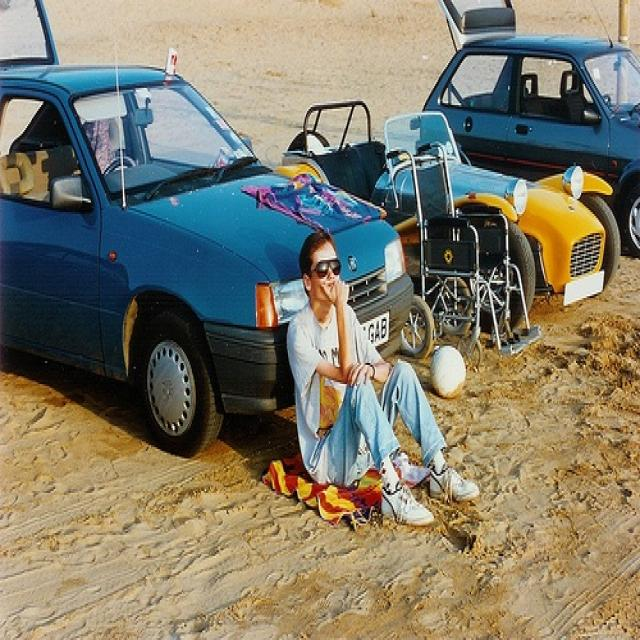car: (1, 2, 414, 460), (280, 100, 621, 332), (420, 2, 639, 254)
